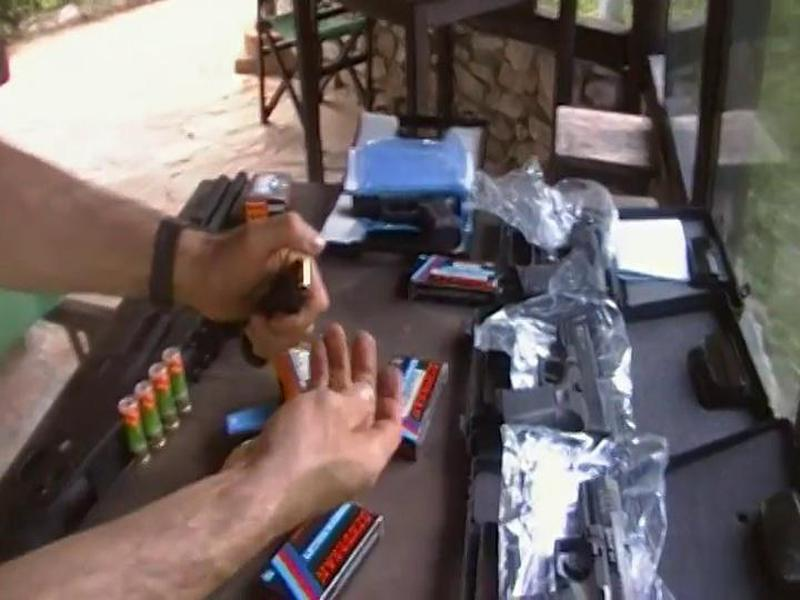Pistola: (480, 301, 642, 462)
